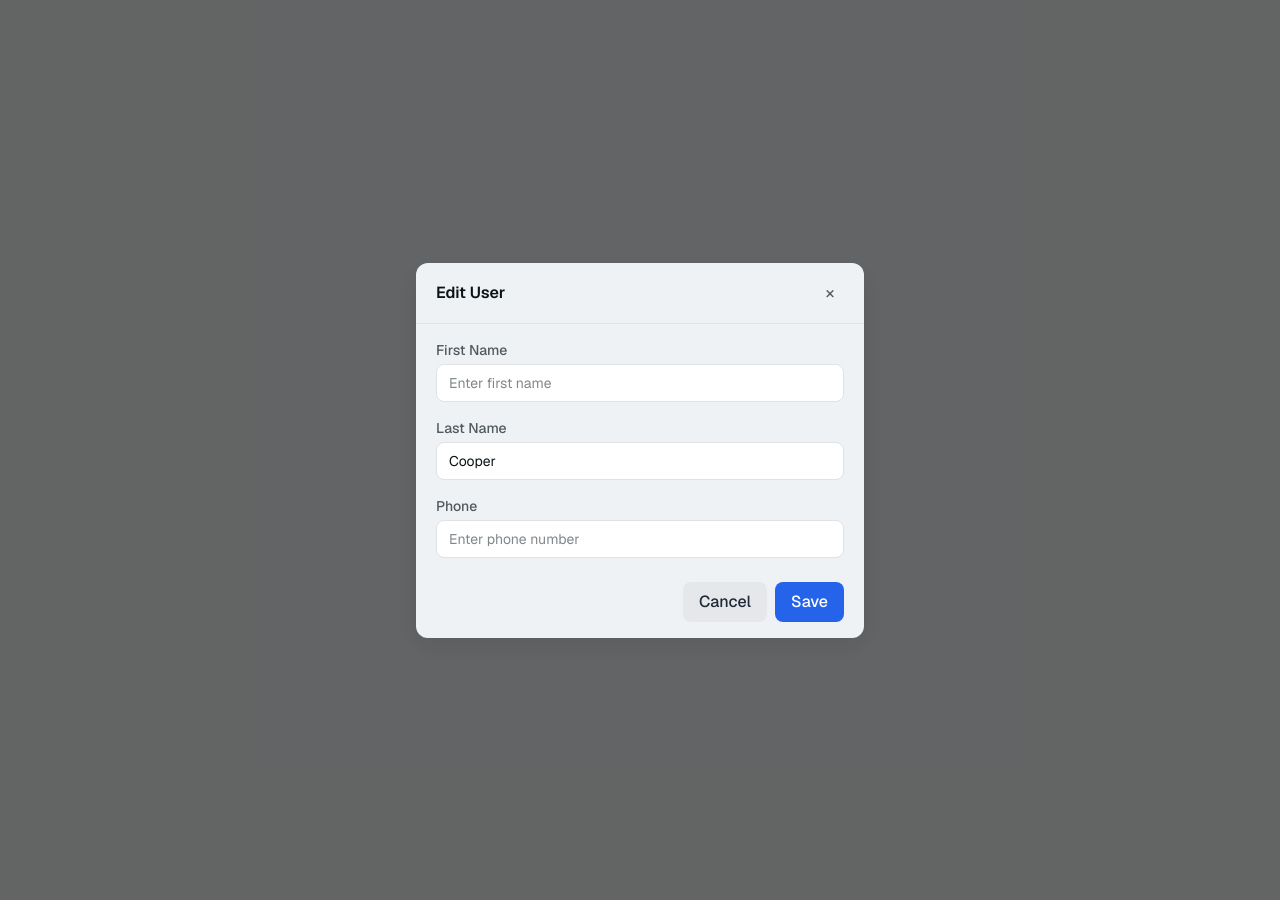
EditUserModal › blocks submit and shows an error when first name is empty
Click the button "Save" at (810, 602), box [775,582,844,622]
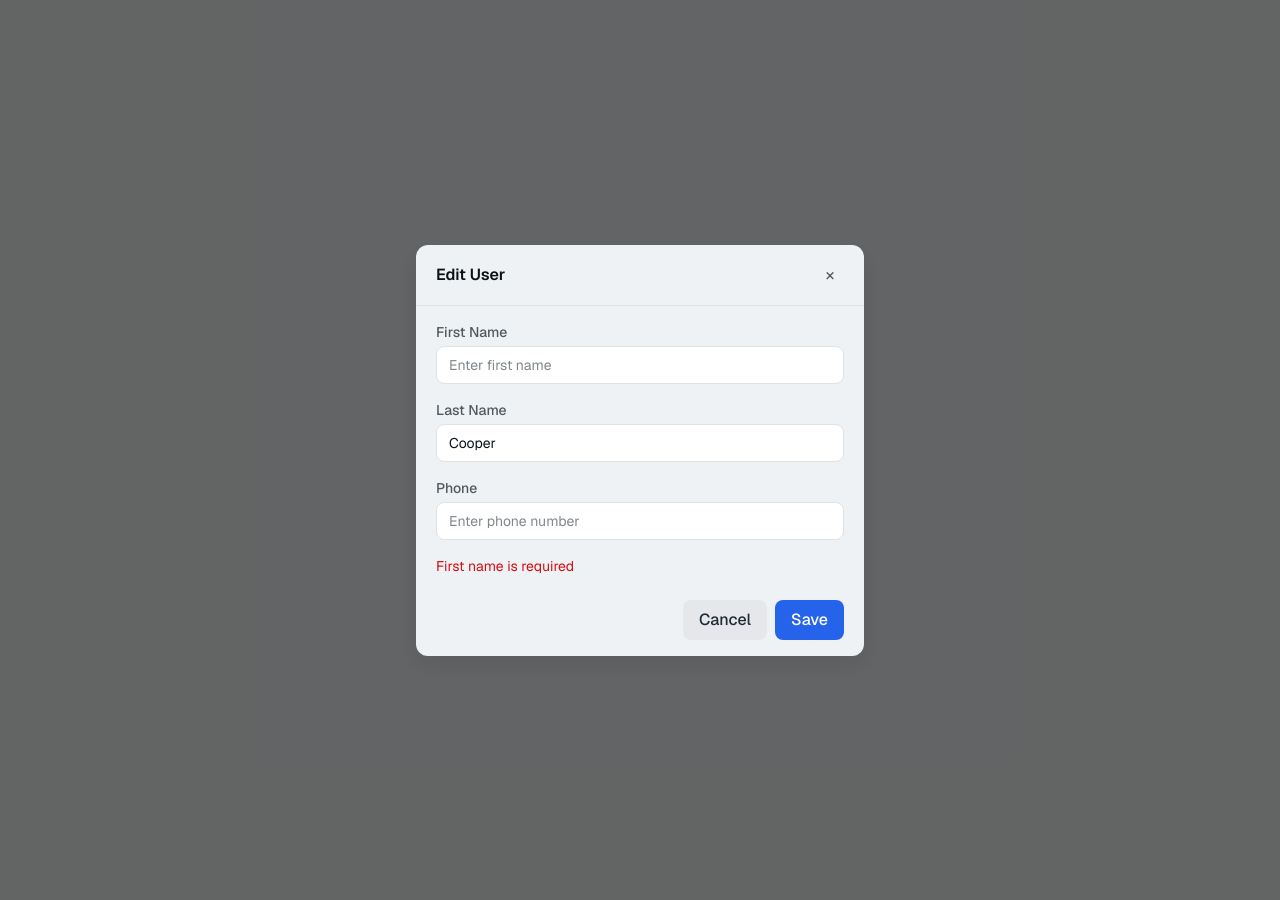
Expected: the text "First name is required" is shown, [436,556,574,574]
